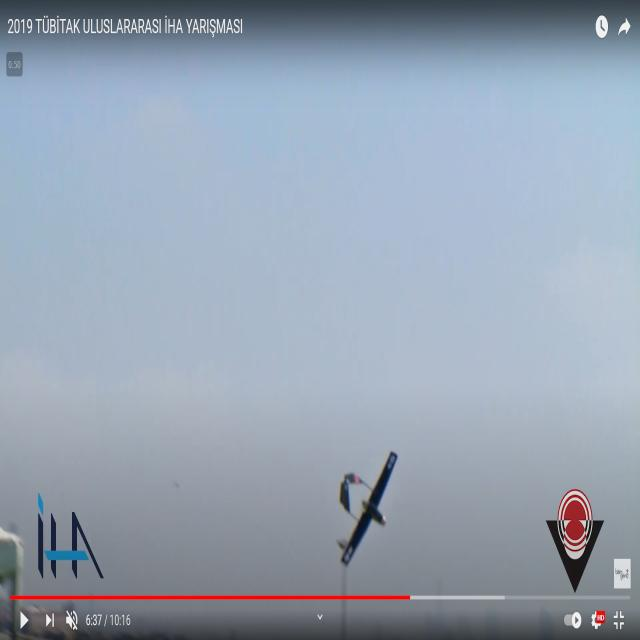iha: (340, 479, 398, 536)
